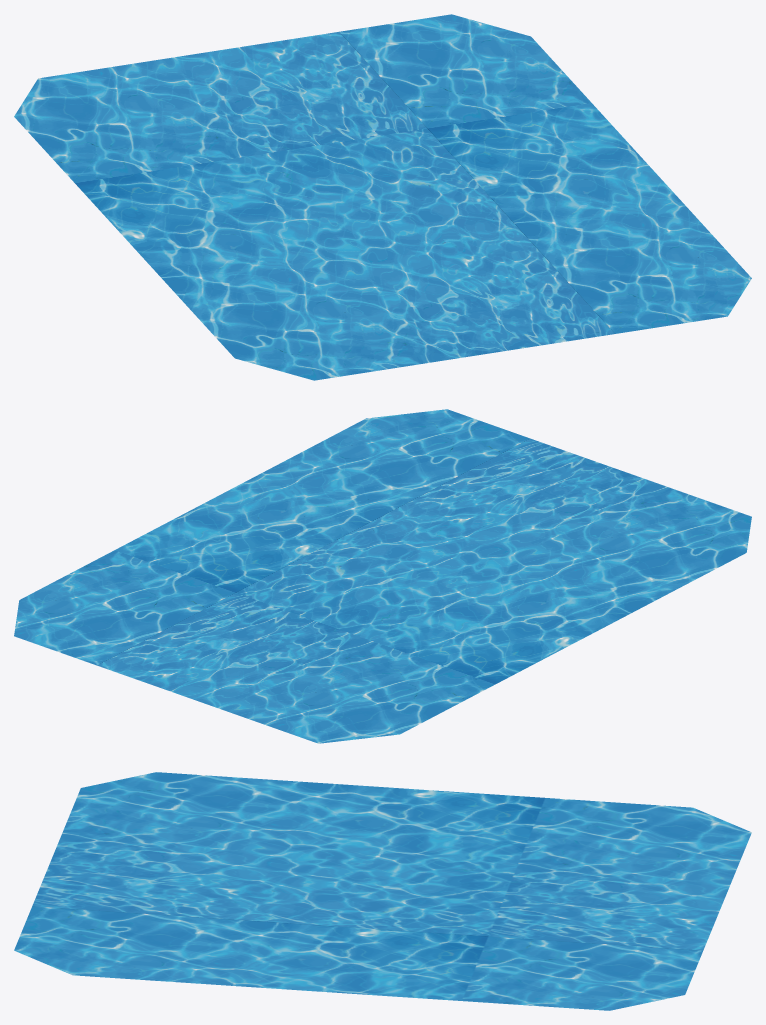
Rendered from Sea.obj.
3 views of the same model, one above another, from view 1: azimuth 30°, elevation 25°; view 2: azimuth 150°, elevation 25°; view 3: azimuth 270°, elevation 25° (orthographic). The views are drawn at different scales.
Parts seen in each view (by area): view 1: Sea:pasted__pasted__pCylinder1; view 2: Sea:pasted__pasted__pCylinder1; view 3: Sea:pasted__pasted__pCylinder1.
Part boxes in pixels (x1=…): Sea:pasted__pasted__pCylinder1: x1=14, y1=14, x2=751, y2=380; Sea:pasted__pasted__pCylinder1: x1=14, y1=409, x2=751, y2=743; Sea:pasted__pasted__pCylinder1: x1=14, y1=772, x2=751, y2=1010.
Bounding box in the file's own units: 8.8 × 0 × 11.49.
1 material, 1 textured.
